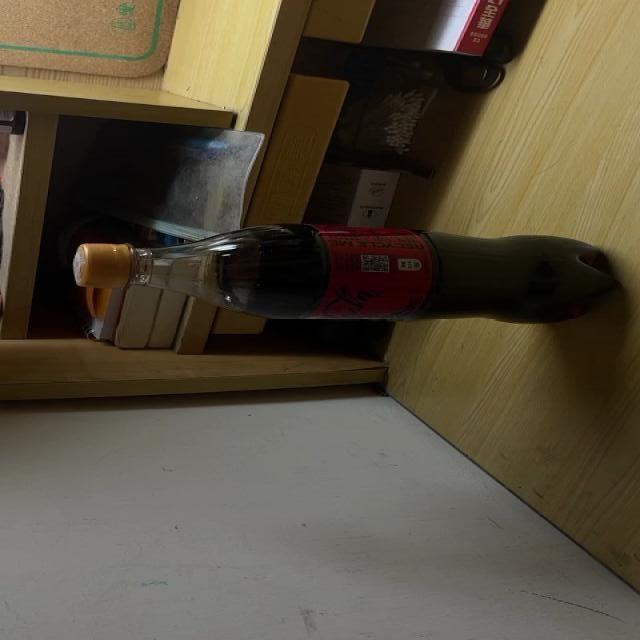Coca-Cola: (71, 223, 614, 321)
